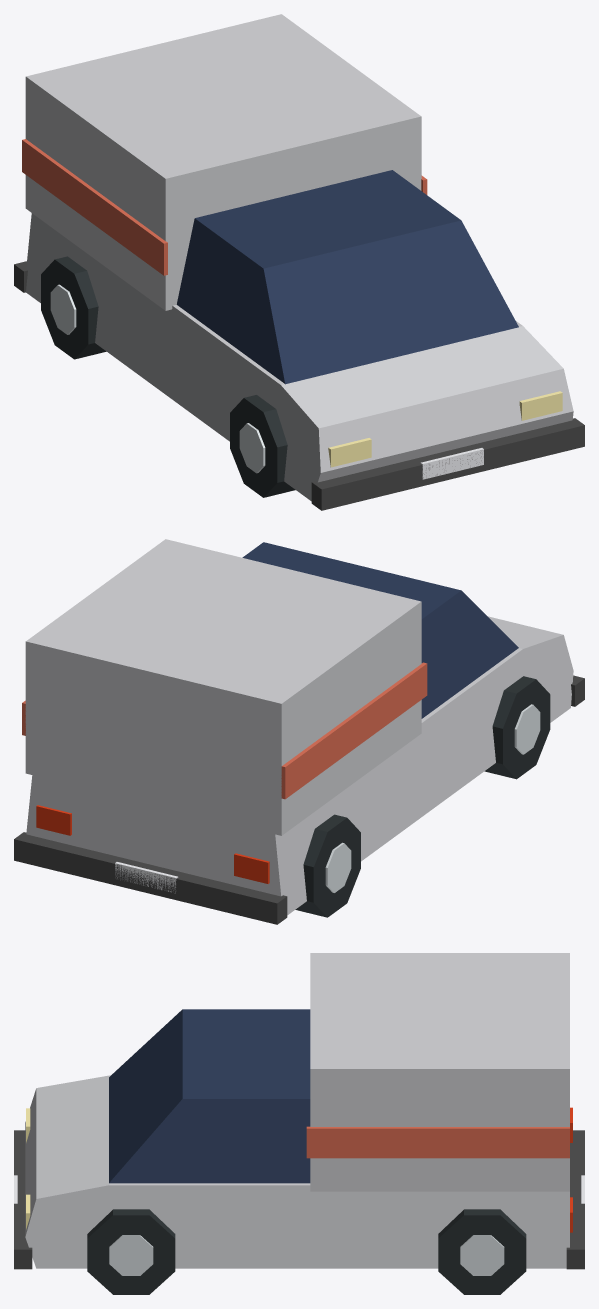
Rendered from lieferwagen.glb.
3 views of the same model, one above another, from view 1: azimuth 30°, elevation 25°; view 2: azimuth 150°, elevation 25°; view 3: azimuth 270°, elevation 25° (orthographic). The views are drawn at different scales.
Parts seen in each view (by area): view 1: lieferwagen-dach, lieferwagen-kabine, lieferwagen-karosserie, lieferwagen-stoss, lieferwagen-streifen, wheel-fr, wheel-rr, lieferwagen-schild, lieferwagen-scheinwerfer, lieferwagen-scheinwerfer.001; view 2: lieferwagen-dach, lieferwagen-karosserie, lieferwagen-kabine, lieferwagen-stoss.001, lieferwagen-streifen, wheel-fr, wheel-rr, lieferwagen-schild.001, lieferwagen-ruecklicht, lieferwagen-ruecklicht.001; view 3: lieferwagen-dach, lieferwagen-karosserie, lieferwagen-kabine, lieferwagen-streifen.001, wheel-rl, wheel-fl, lieferwagen-stoss.001, lieferwagen-stoss.
Part boxes in pixels (left/top/right/bottom): lieferwagen-dach: left=25, top=14, right=421, bottom=310; lieferwagen-kabine: left=176, top=170, right=518, bottom=384; lieferwagen-karosserie: left=26, top=213, right=573, bottom=501; lieferwagen-stoss: left=311, top=418, right=584, bottom=510; lieferwagen-streifen: left=22, top=139, right=167, bottom=275; wheel-fr: left=230, top=395, right=295, bottom=497; wheel-rr: left=41, top=256, right=106, bottom=359; lieferwagen-schild: left=420, top=448, right=483, bottom=479; lieferwagen-scheinwerfer: left=328, top=438, right=371, bottom=467; lieferwagen-scheinwerfer.001: left=519, top=391, right=562, bottom=420; lieferwagen-dach: left=25, top=539, right=421, bottom=835; lieferwagen-karosserie: left=26, top=616, right=573, bottom=915; lieferwagen-kabine: left=242, top=542, right=518, bottom=718; lieferwagen-stoss.001: left=14, top=832, right=287, bottom=924; lieferwagen-streifen: left=281, top=662, right=427, bottom=799; wheel-fr: left=484, top=676, right=550, bottom=779; wheel-rr: left=295, top=814, right=360, bottom=917; lieferwagen-schild.001: left=115, top=862, right=178, bottom=893; lieferwagen-ruecklicht: left=234, top=853, right=269, bottom=883; lieferwagen-ruecklicht.001: left=36, top=805, right=71, bottom=835; lieferwagen-dach: left=310, top=953, right=569, bottom=1191; lieferwagen-karosserie: left=25, top=1075, right=569, bottom=1268; lieferwagen-kabine: left=109, top=1009, right=310, bottom=1183; lieferwagen-streifen.001: left=306, top=1126, right=569, bottom=1158; wheel-rl: left=438, top=1209, right=526, bottom=1294; wheel-fl: left=87, top=1209, right=175, bottom=1294; lieferwagen-stoss.001: left=566, top=1130, right=584, bottom=1269; lieferwagen-stoss: left=14, top=1130, right=32, bottom=1269.
Bounding box in the file's own units: 4.06 × 3.35 × 7.81.
